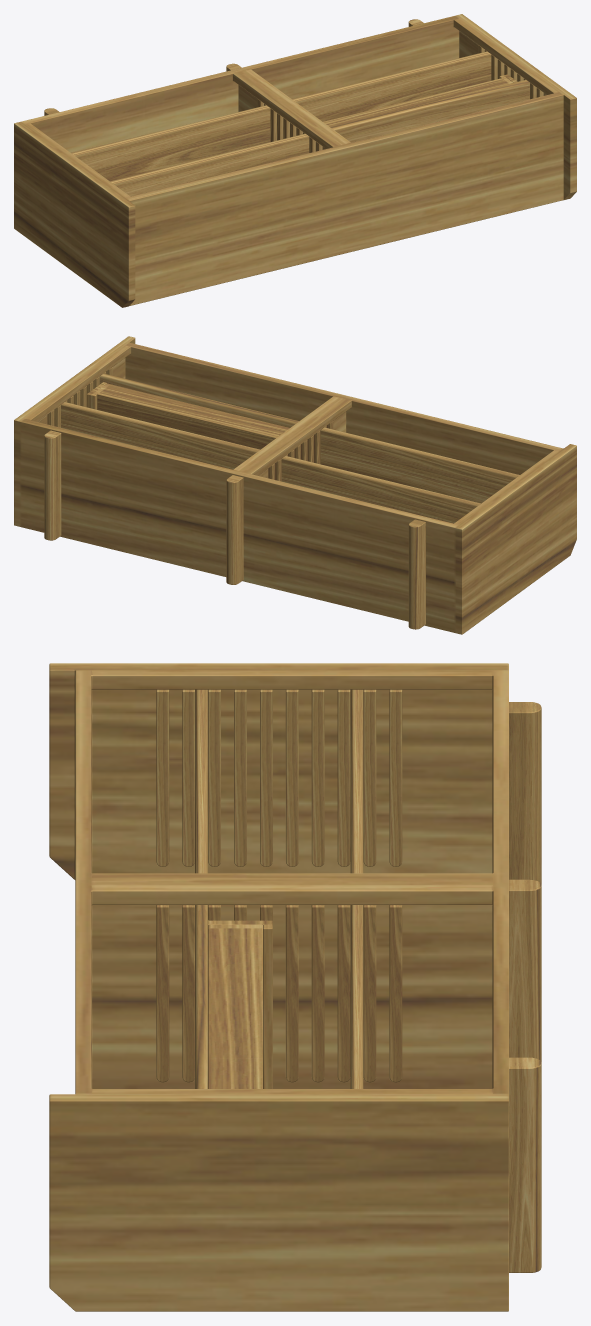
Rendered from ventura-bookshelf.gltf.
3 views of the same model, one above another, from view 1: azimuth 30°, elevation 25°; view 2: azimuth 150°, elevation 25°; view 3: azimuth 270°, elevation 25° (orthographic). The views are drawn at different scales.
Parts seen in each view (by area): view 1: Ventura_notched_bookshelf_160x36x76, Rack_2, Rack_3, Drawer_Holder, Rack_1, Drawer, Rack_Holder; view 2: Ventura_notched_bookshelf_160x36x76, Rack_1, Leg, Drawer, Rack_2, Rack_3, Drawer_Holder, Rack_Holder; view 3: Ventura_notched_bookshelf_160x36x76, Rack_Holder, Leg, Drawer, Drawer_Holder, Rack_2, Rack_3, Rack_1.
Boxes of the visible parts, x1,y1,x2,y2 form: Ventura_notched_bookshelf_160x36x76: (14,14,576,307); Rack_2: (71,105,270,181); Rack_3: (292,51,491,121); Drawer_Holder: (331,74,529,142); Rack_1: (110,133,309,196); Drawer: (323,77,513,127); Rack_Holder: (257,45,543,152); Ventura_notched_bookshelf_160x36x76: (14,336,576,634); Rack_1: (320,427,519,503); Leg: (44,430,425,629); Drawer: (93,383,289,449); Rack_2: (281,456,480,523); Rack_3: (61,402,259,469); Drawer_Holder: (86,373,298,427); Rack_Holder: (47,367,333,481); Ventura_notched_bookshelf_160x36x76: (49,663,508,1311); Rack_Holder: (156,689,402,1082); Leg: (509,702,541,1272); Drawer: (208,924,262,1088); Drawer_Holder: (195,905,272,1088); Rack_2: (350,689,363,873); Rack_3: (350,905,363,1088); Rack_1: (195,689,207,873).
Size of the model in its own units: 1.6 by 0.36 by 0.76.
8 materials, 8 textured.
